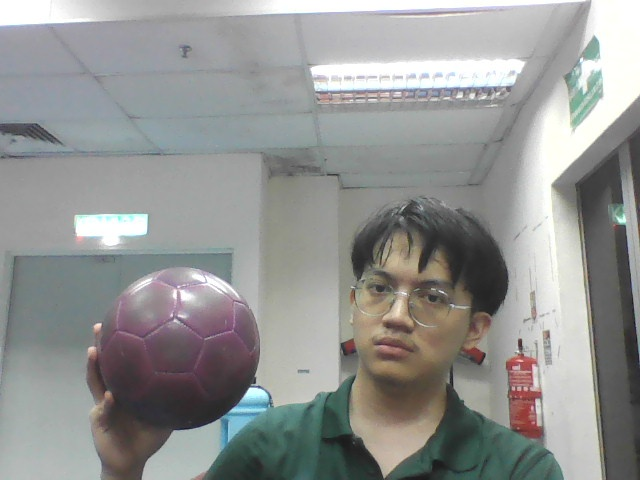Purple: (98, 268, 261, 429)
